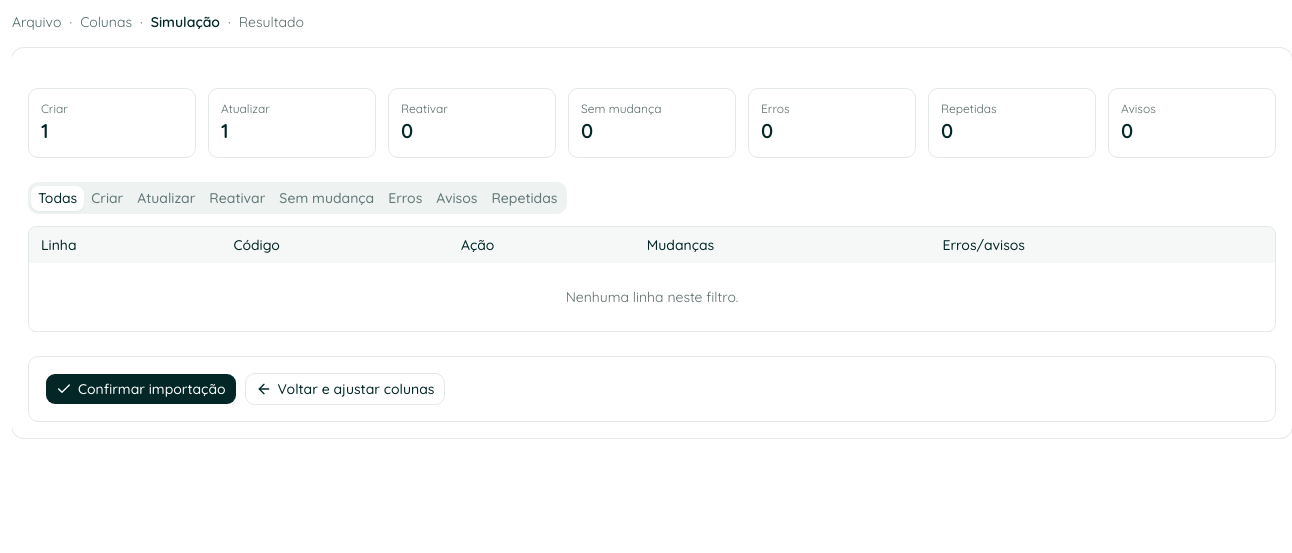
Test: ImportWizard › "Voltar e ajustar colunas" volta às colunas com o mapeamento usado
Click the button "Voltar e ajustar colunas": (345, 389) [244, 373, 445, 405]
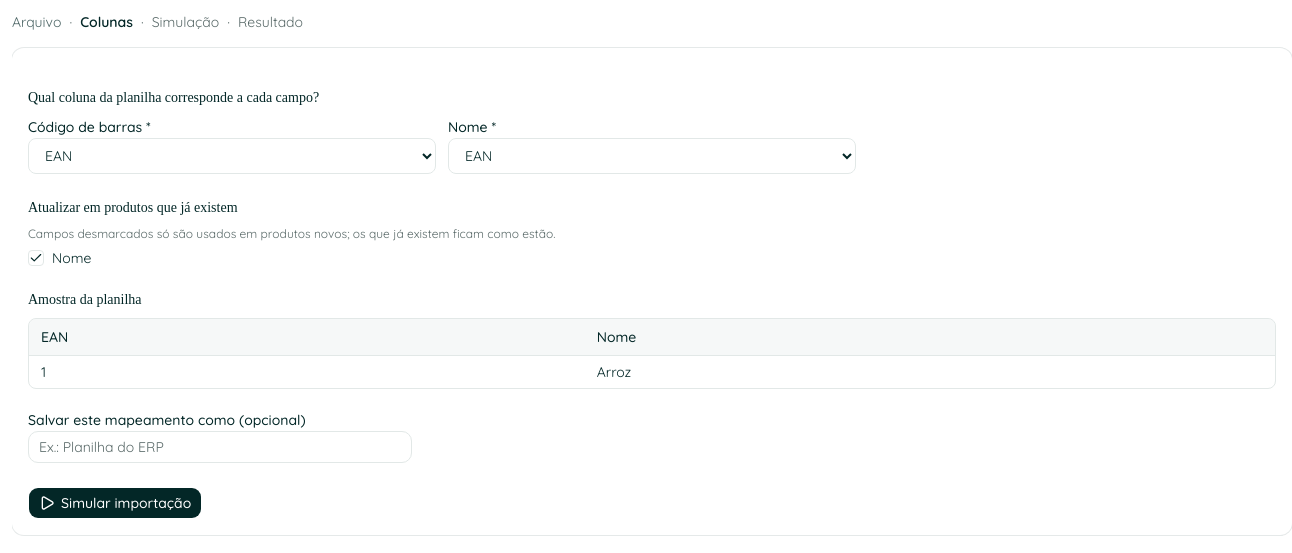
Expected: the text "Colunas" is shown, [80, 12, 133, 32]
Result: the dropdown labelled "Nome *" shows "EAN" at [448, 138, 856, 174]
